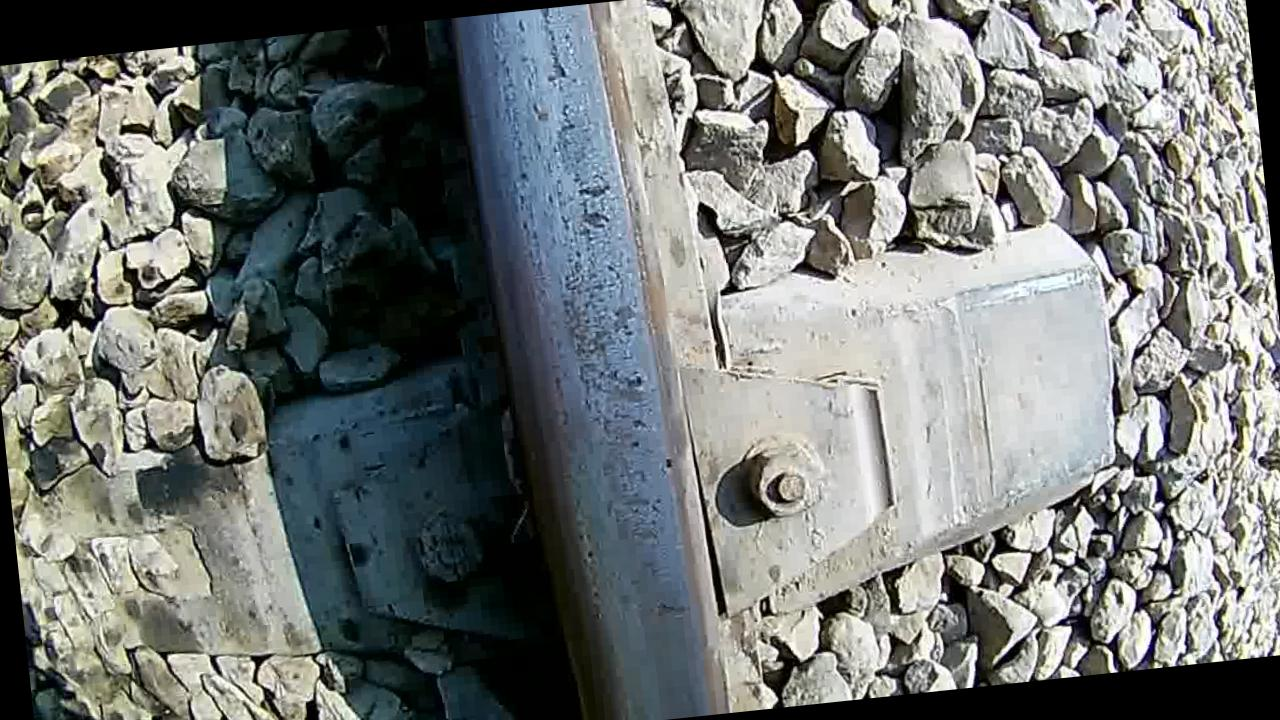crack: (456, 0, 723, 720)
